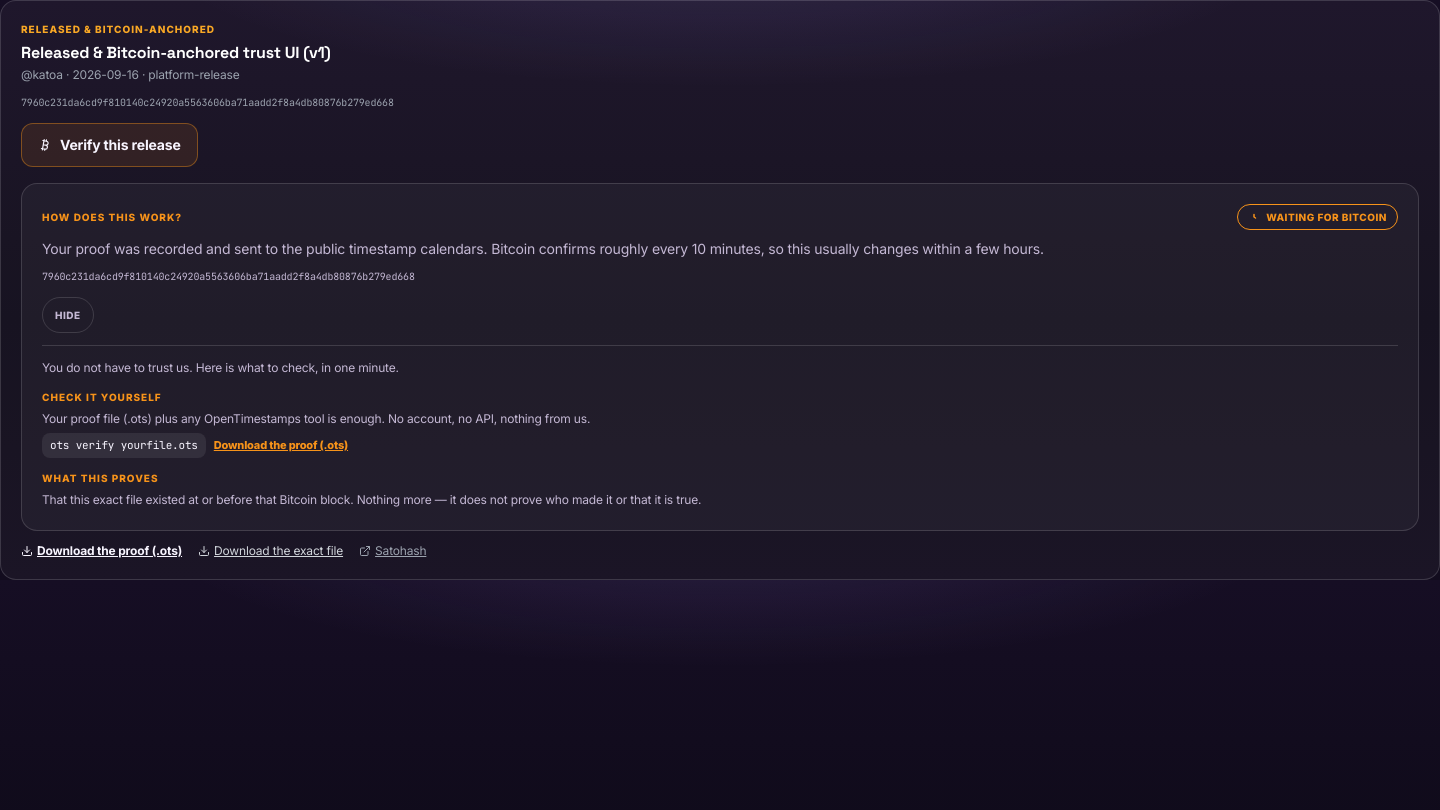
Test: ReleaseAttestation — "Released & Bitcoin-anchored" › names the public explorer when that is how the check was done
Click the button with test id "verify-release-button": (109, 145) [21,123,198,167]
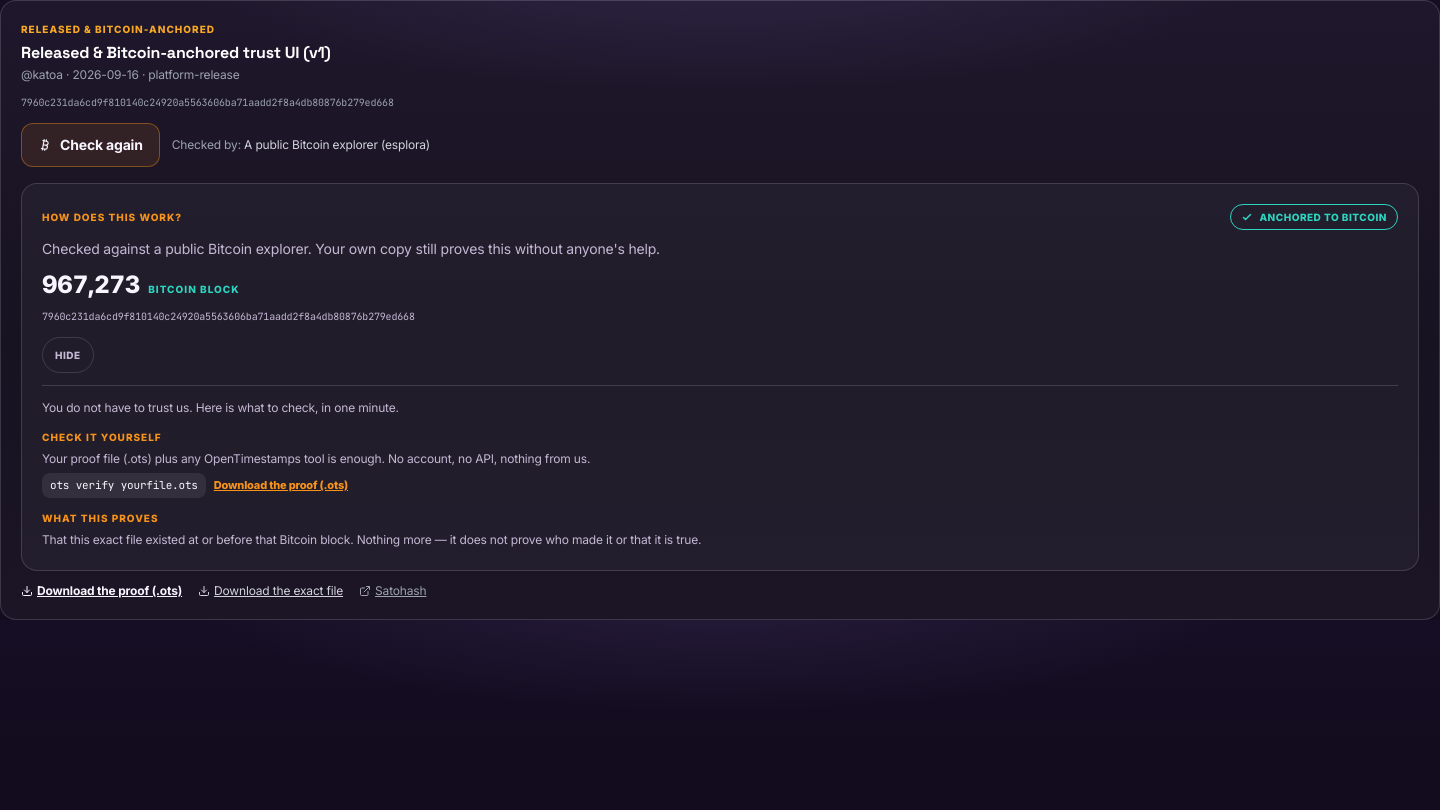
Now the element with test id "verify-method" shows "explorer", box [244,137,430,152]
